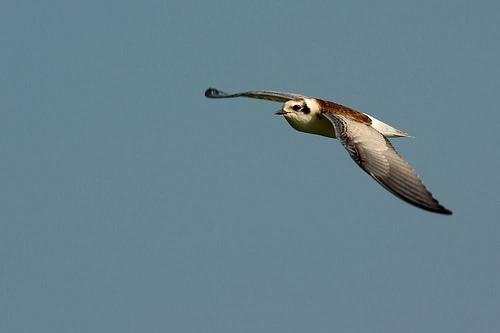bird: (204, 86, 458, 220)
